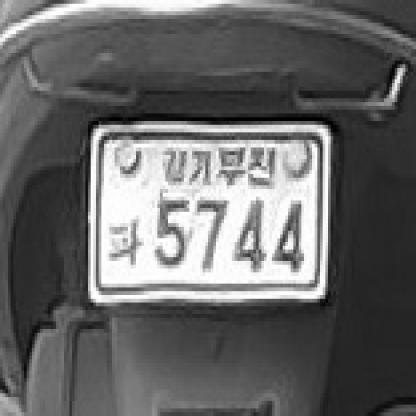bnum: (81, 113, 339, 308)
